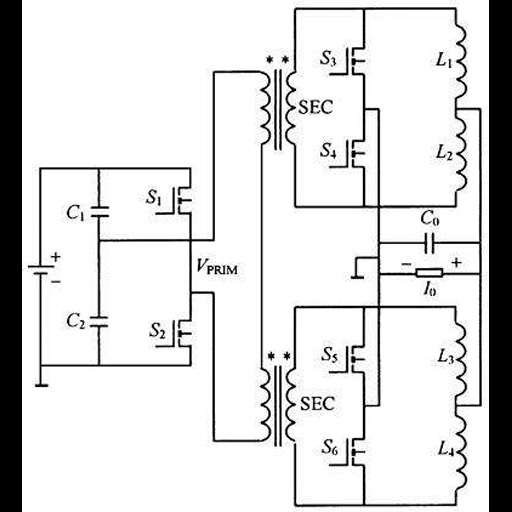capacitor: (84, 311, 113, 332), (420, 229, 441, 255), (90, 201, 111, 222)
firstresistance: (412, 265, 448, 281)
inductor: (452, 414, 474, 493), (450, 322, 470, 401), (451, 113, 470, 194), (452, 18, 470, 103)
transformer: (254, 66, 299, 152), (258, 366, 297, 447)
